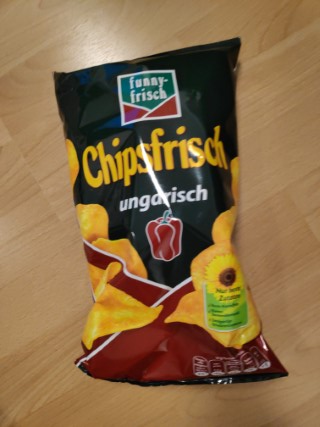chipsfrisch: (50, 35, 289, 389)
